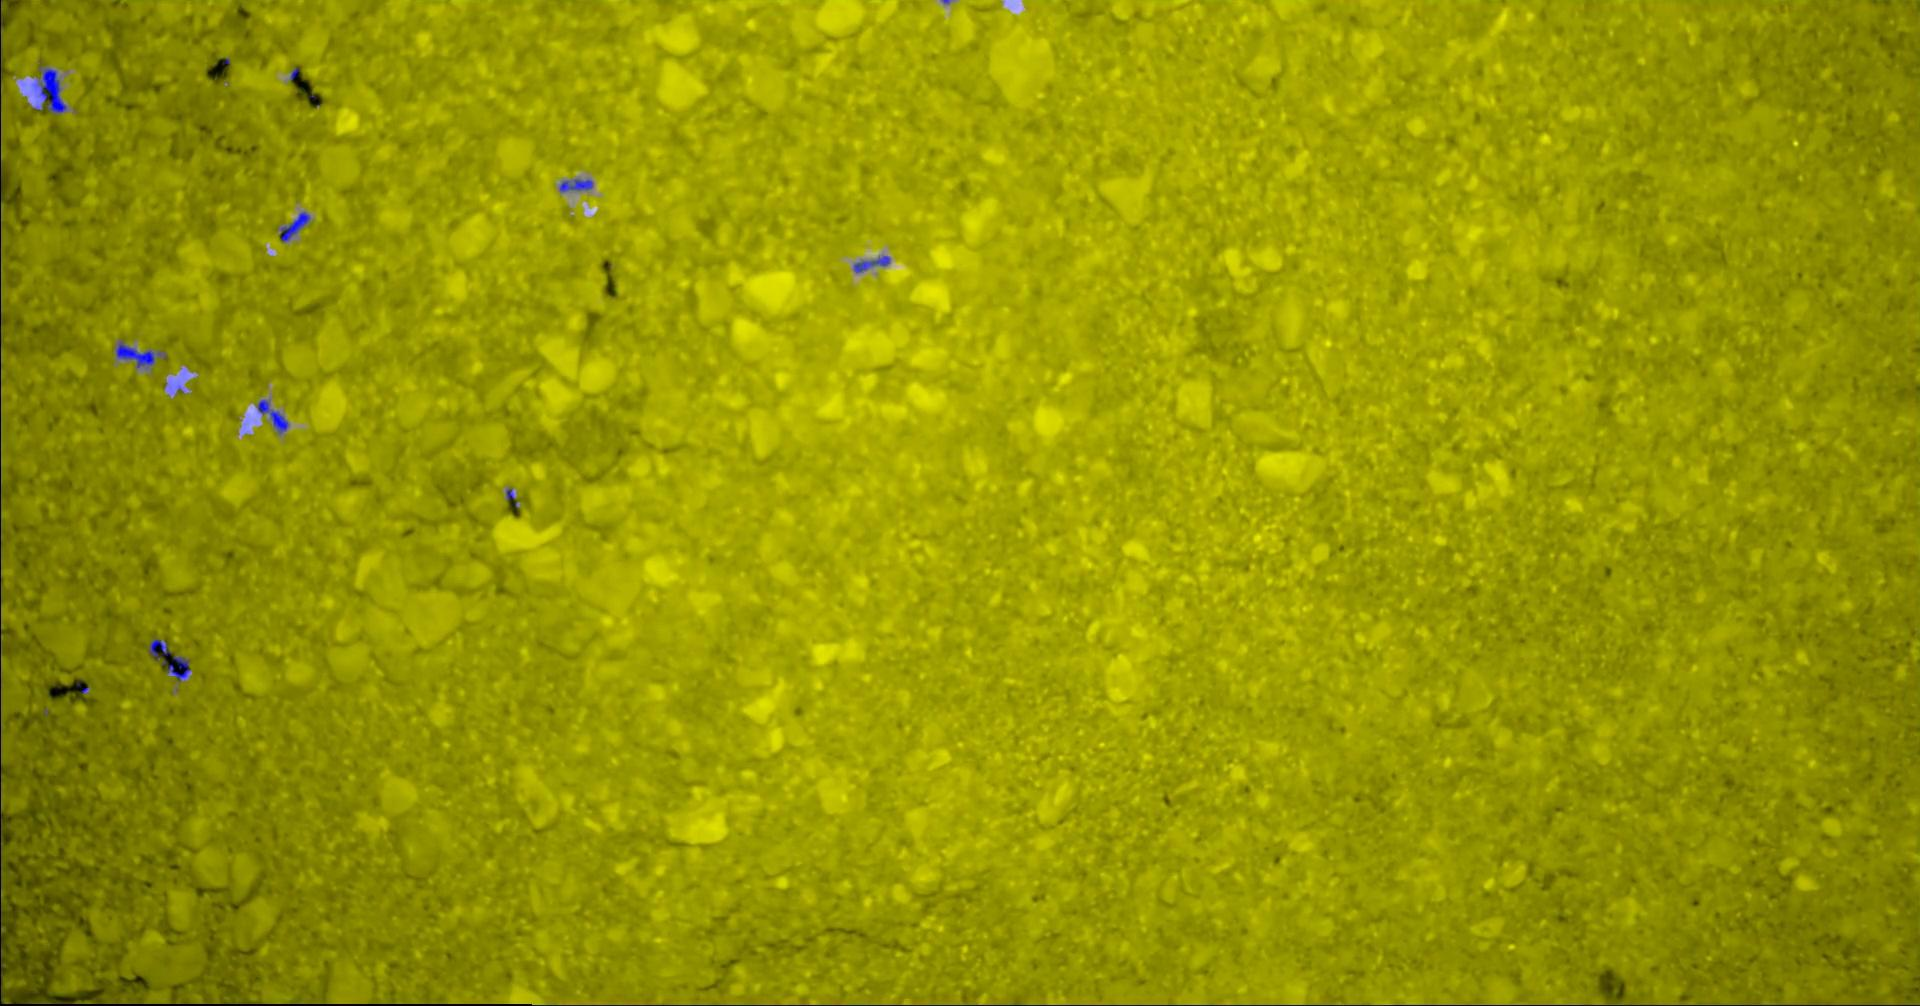ant: (149, 638, 190, 680), (33, 65, 66, 113), (116, 340, 161, 367), (257, 399, 288, 433), (279, 211, 310, 241), (853, 255, 889, 272), (559, 178, 592, 191), (0, 818, 1, 888)
